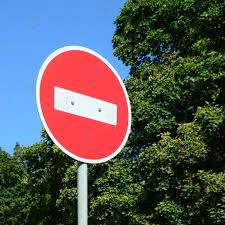No entry: (34, 46, 133, 165)
